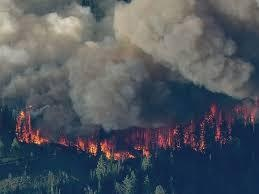fire: (15, 107, 48, 145)
